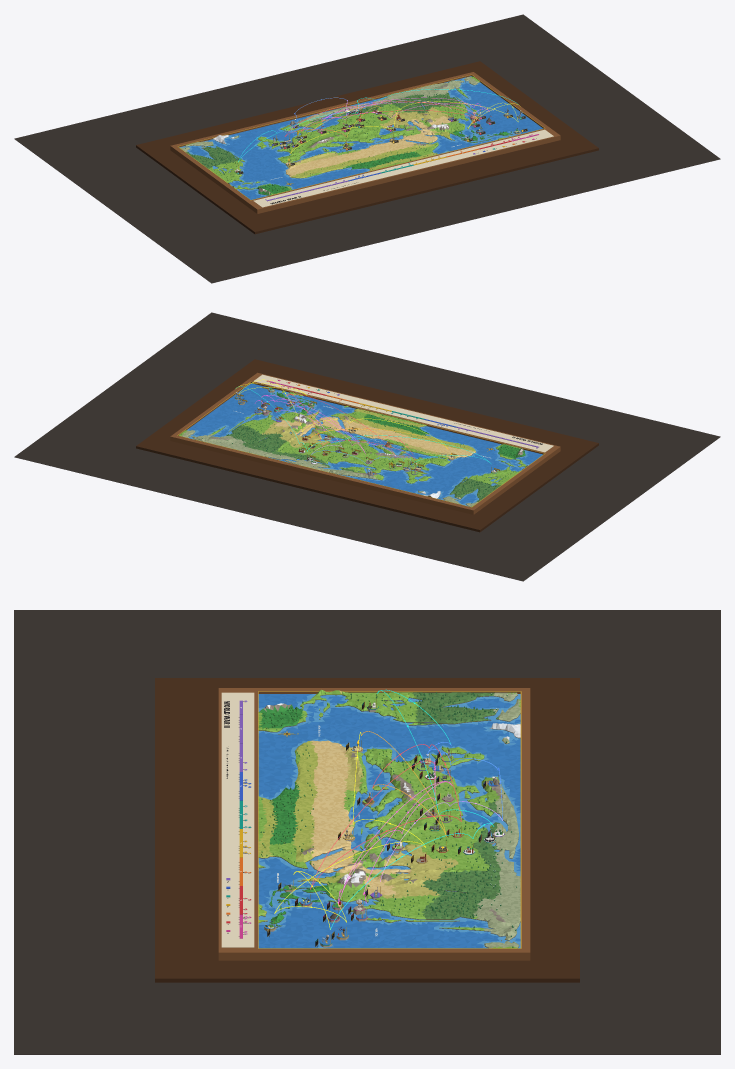
File: world-war-2.glb
3 renders of one model, top to bottom at view 1: azimuth 30°, elevation 25°; view 2: azimuth 150°, elevation 25°; view 3: azimuth 270°, elevation 25°, orthographic. The views are drawn at different scales.
Visible parts, largest first — view 1: MERGED_WW2_floor, MERGED_WW2_wood_dark, MERGED_WW2_water, MERGED_WW2_wood, MERGED_WW2_water2, MERGED_WW2_temperate, MERGED_WW2_temperate2, MERGED_WW2_paper, MERGED_WW2_shallow, MERGED_WW2_shallow2, MERGED_WW2_desert, MERGED_WW2_taiga (+14 smaller); view 2: MERGED_WW2_floor, MERGED_WW2_wood_dark, MERGED_WW2_water, MERGED_WW2_wood, MERGED_WW2_water2, MERGED_WW2_temperate, MERGED_WW2_temperate2, MERGED_WW2_paper, MERGED_WW2_shallow, MERGED_WW2_shallow2, MERGED_WW2_desert, MERGED_WW2_taiga (+12 smaller); view 3: MERGED_WW2_floor, MERGED_WW2_wood_dark, MERGED_WW2_water, MERGED_WW2_water2, MERGED_WW2_temperate, MERGED_WW2_wood, MERGED_WW2_temperate2, MERGED_WW2_paper, MERGED_WW2_shallow, MERGED_WW2_shallow2, MERGED_WW2_desert, MERGED_WW2_taiga (+17 smaller).
Part boxes in pixels (<box>): MERGED_WW2_floor: <box>14,14,720,283</box>; MERGED_WW2_wood_dark: <box>136,61,598,234</box>; MERGED_WW2_water: <box>191,78,541,199</box>; MERGED_WW2_wood: <box>170,72,560,213</box>; MERGED_WW2_water2: <box>189,83,542,199</box>; MERGED_WW2_temperate: <box>180,76,510,194</box>; MERGED_WW2_temperate2: <box>180,77,503,194</box>; MERGED_WW2_paper: <box>253,129,553,207</box>; MERGED_WW2_shallow: <box>179,76,520,196</box>; MERGED_WW2_shallow2: <box>180,76,514,196</box>; MERGED_WW2_desert: <box>286,116,450,177</box>; MERGED_WW2_taiga: <box>188,94,462,168</box>; MERGED_WW2_floor: <box>14,312,720,581</box>; MERGED_WW2_wood_dark: <box>136,359,598,532</box>; MERGED_WW2_water: <box>188,384,542,503</box>; MERGED_WW2_wood: <box>170,372,560,514</box>; MERGED_WW2_water2: <box>189,383,541,503</box>; MERGED_WW2_temperate: <box>179,390,526,506</box>; MERGED_WW2_temperate2: <box>179,390,526,505</box>; MERGED_WW2_paper: <box>253,374,553,452</box>; MERGED_WW2_shallow: <box>187,391,528,506</box>; MERGED_WW2_shallow2: <box>189,390,528,506</box>; MERGED_WW2_desert: <box>275,417,475,457</box>; MERGED_WW2_taiga: <box>228,426,500,501</box>; MERGED_WW2_floor: <box>14,610,720,1054</box>; MERGED_WW2_wood_dark: <box>155,678,579,982</box>; MERGED_WW2_water: <box>258,694,520,948</box>; MERGED_WW2_water2: <box>258,694,520,948</box>; MERGED_WW2_temperate: <box>258,690,520,948</box>; MERGED_WW2_wood: <box>218,688,530,960</box>; MERGED_WW2_temperate2: <box>258,690,520,948</box>; MERGED_WW2_paper: <box>221,692,254,947</box>; MERGED_WW2_shallow: <box>258,694,520,948</box>; MERGED_WW2_shallow2: <box>258,695,520,948</box>; MERGED_WW2_desert: <box>310,740,411,895</box>; MERGED_WW2_taiga: <box>413,692,500,919</box>.
Bounding box in the file's own units: 709 × 42.35 × 477.
